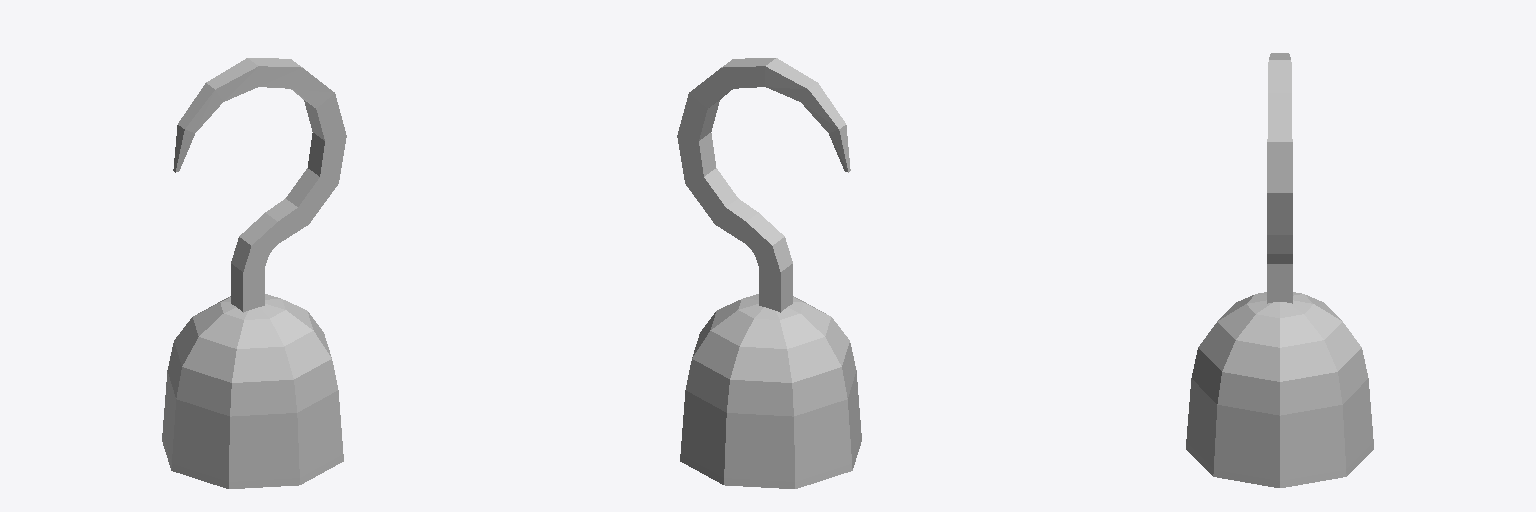
The model's file is pirate hook.obj.
3 renders of one model, left to right at view 1: azimuth 30°, elevation 25°; view 2: azimuth 150°, elevation 25°; view 3: azimuth 270°, elevation 25°, orthographic.
Bounding box in the file's own units: 2.2 × 4.85 × 2.13.